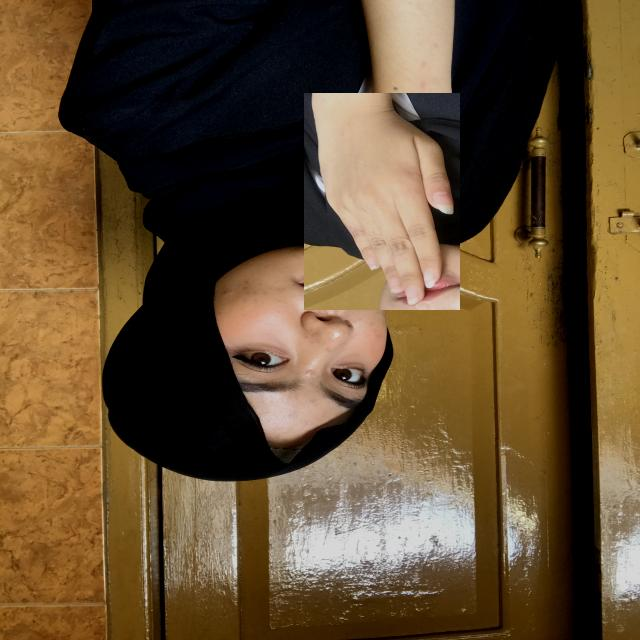ganteng: (304, 93, 460, 310)
